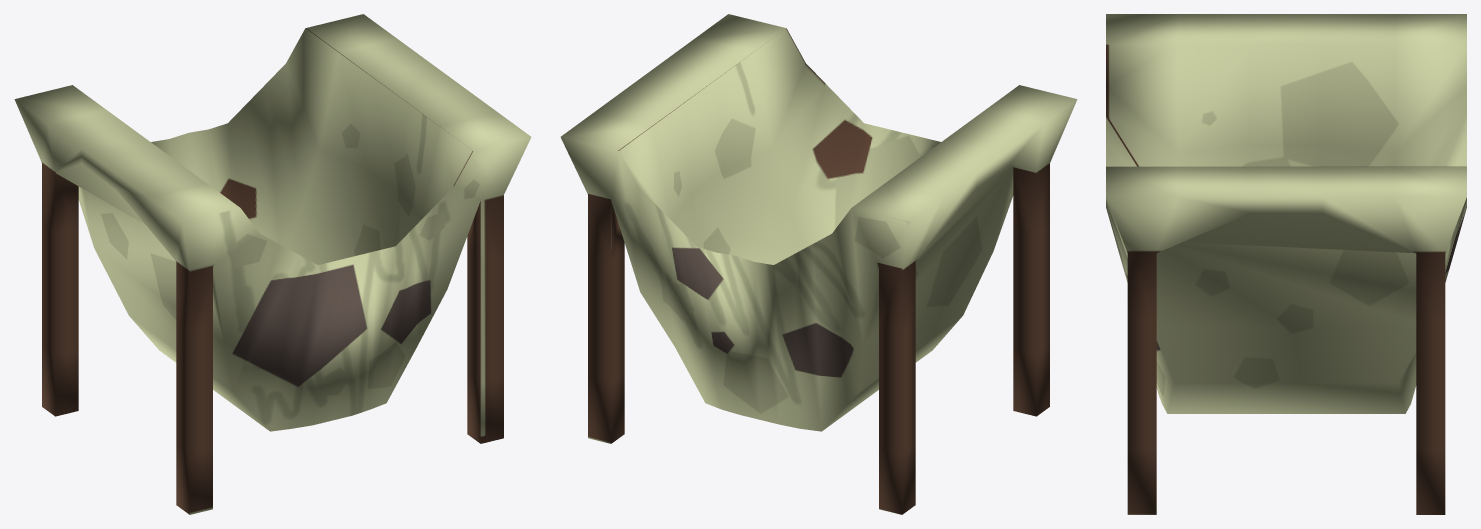
File: basket2.fbx
3 renders of one model, left to right at view 1: azimuth 30°, elevation 25°; view 2: azimuth 150°, elevation 25°; view 3: azimuth 270°, elevation 25°, orthographic. The views are drawn at different scales.
Parts seen in each view (by area): view 1: Cube; view 2: Cube; view 3: Cube.
Boxes of the visible parts, box(x1,y1,x2,y2) form: Cube: box(14, 14, 531, 514); Cube: box(560, 14, 1077, 514); Cube: box(1106, 14, 1466, 514).
Size of the model in its own units: 2.4 by 2 by 2.
